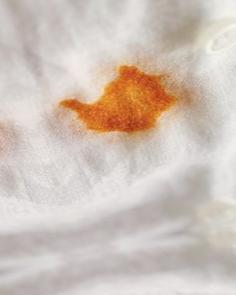stain: (57, 59, 186, 141)
